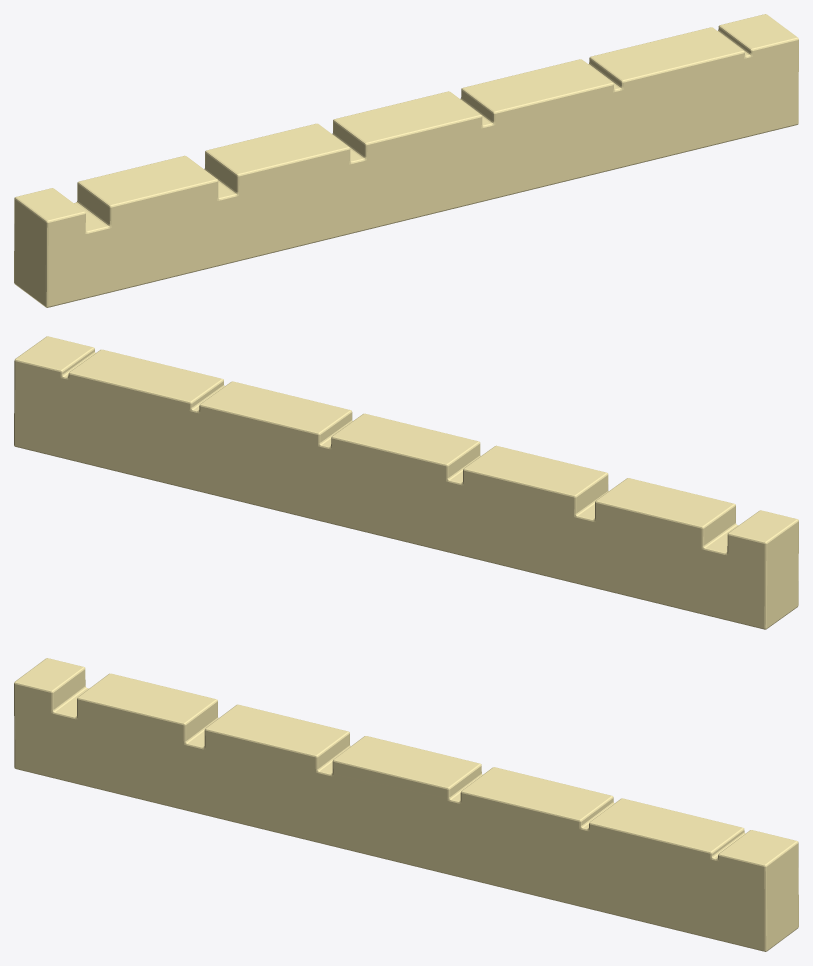
Rendered from S_ponticello.obj.
The picture shows the model from 3 angles, top to bottom: view 1: azimuth 30°, elevation 25°; view 2: azimuth 150°, elevation 25°; view 3: azimuth 330°, elevation 25°; orthographic projection.
Parts seen in each view (by area): view 1: ponticello; view 2: ponticello; view 3: ponticello.
Part boxes in pixels (left/top/right/bottom): ponticello: left=14, top=14, right=798, bottom=307; ponticello: left=14, top=336, right=798, bottom=629; ponticello: left=14, top=658, right=798, bottom=951.
Bounding box in the file's own units: 0.0463 × 0.00518 × 0.00359.
